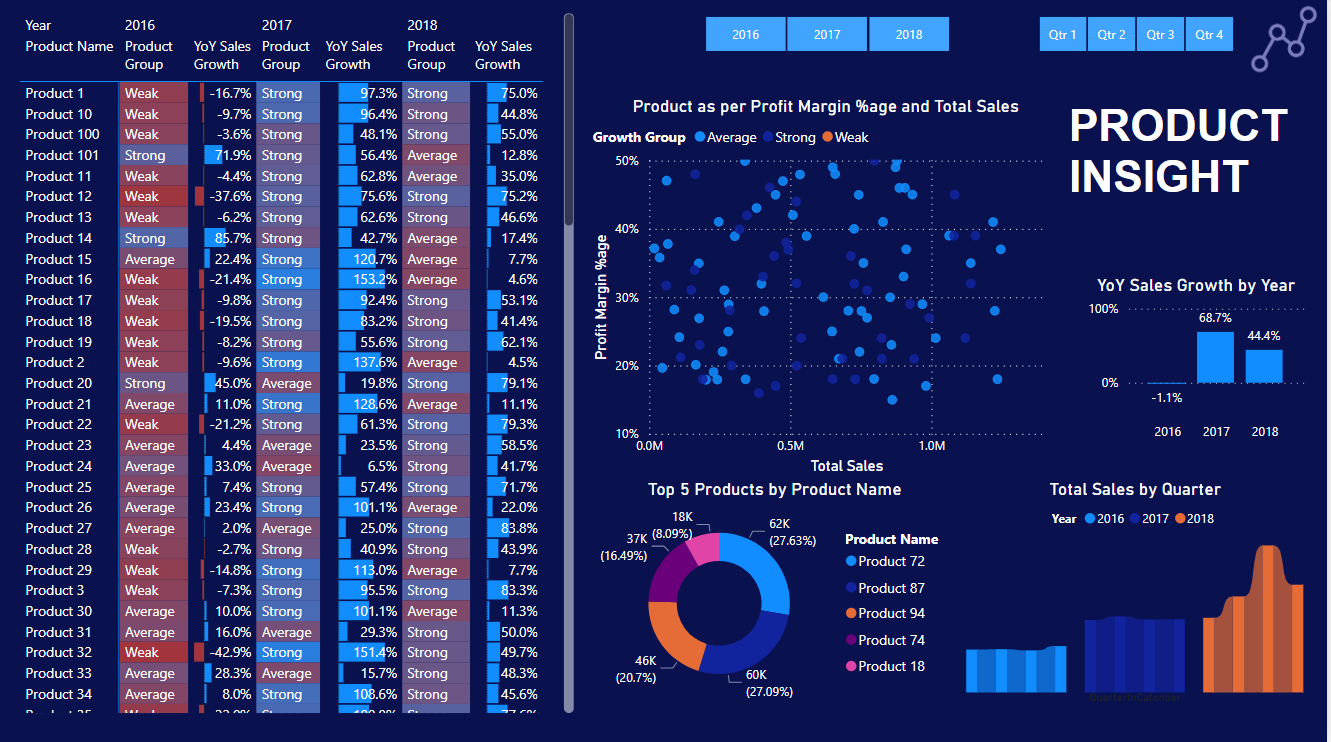

The page's visual inventory and layout, read from the dashboard file:
{"tool":"powerbi","page":{"name":"Product Insight","canvas":[1280,720],"ordinal":1},"visuals":[{"type":"donutChart","fields":{"Category":["Product.Product Name"],"Y":["Key Calculations.Top 5 Products"]},"box":[568.2,464.8,358.9,222.7],"z":0},{"type":"pivotTable","fields":{"Rows":["Product.Product Name"],"Values":["Time Intelligence Functions.Product Group","Time Intelligence Functions.YoY Sales Growth"],"Columns":["Dates.Year"]},"box":[14.6,11,543.9,685],"z":1000},{"type":"slicer","fields":{"Values":["Dates.Year"]},"box":[654.9,12.1,284.6,47],"z":2000},{"type":"scatterChart","title":"Product as per Profit Margin %age and Total Sales","fields":{"Y":["Key Calculations.Profit Margin %age"],"X":["Time Intelligence Functions.Product Group (Sales)"],"Category":["Product.Product Name"],"Series":["Product Group.Growth Group"]},"box":[567,94.9,459.9,369.9],"z":3000},{"type":"slicer","fields":{"Values":["Dates.Date.Variation.Date Hierarchy.Quarter"]},"box":[976.9,12.1,236.4,47],"z":4000},{"type":"ribbonChart","title":"Total Sales by Quarter","fields":{"Category":["Dates.QuarterInCalendar"],"Y":["Key Calculations.Total Sales"],"Series":["Dates.Year"]},"box":[927.1,464.8,335.8,222.7],"z":5000},{"type":"columnChart","fields":{"Y":["Time Intelligence Functions.YoY Sales Growth"],"Category":["Dates.Year"]},"box":[1044,267.7,219,170.3],"z":6000},{"type":"textbox","box":[1026.9,94.9,236,115.6],"z":7000},{"type":"image","box":[1197.6,0,82,80.8],"z":8000}]}

Visuals, with their boxes in screenshot pixels (x1, y1, x2, y2), scaled from the page's 1280x720 canvas onto the 1331x742 screenshot:
donutChart - Product.Product Name x Key Calculations.Top 5 Products: region(591, 479, 964, 709)
pivotTable - Product.Product Name x Time Intelligence Functions.Product Group: region(15, 11, 581, 717)
slicer - Dates.Year: region(681, 12, 977, 61)
"Product as per Profit Margin %age and Total Sales" scatterChart: region(590, 98, 1068, 479)
slicer - Dates.Date.Variation.Date Hierarchy.Quarter: region(1016, 12, 1262, 61)
"Total Sales by Quarter" ribbonChart: region(964, 479, 1313, 709)
columnChart - Time Intelligence Functions.YoY Sales Growth x Dates.Year: region(1086, 276, 1313, 451)
textbox: region(1068, 98, 1313, 217)
image: region(1245, 0, 1330, 83)
